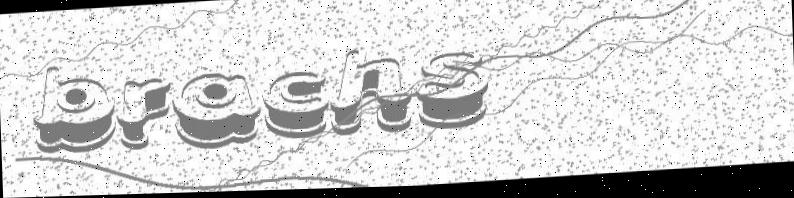a: (171, 71, 265, 155)
b: (31, 60, 118, 158)
c: (263, 71, 327, 141)
r: (114, 75, 174, 152)
s: (414, 53, 489, 132)
w: (326, 48, 413, 141)
